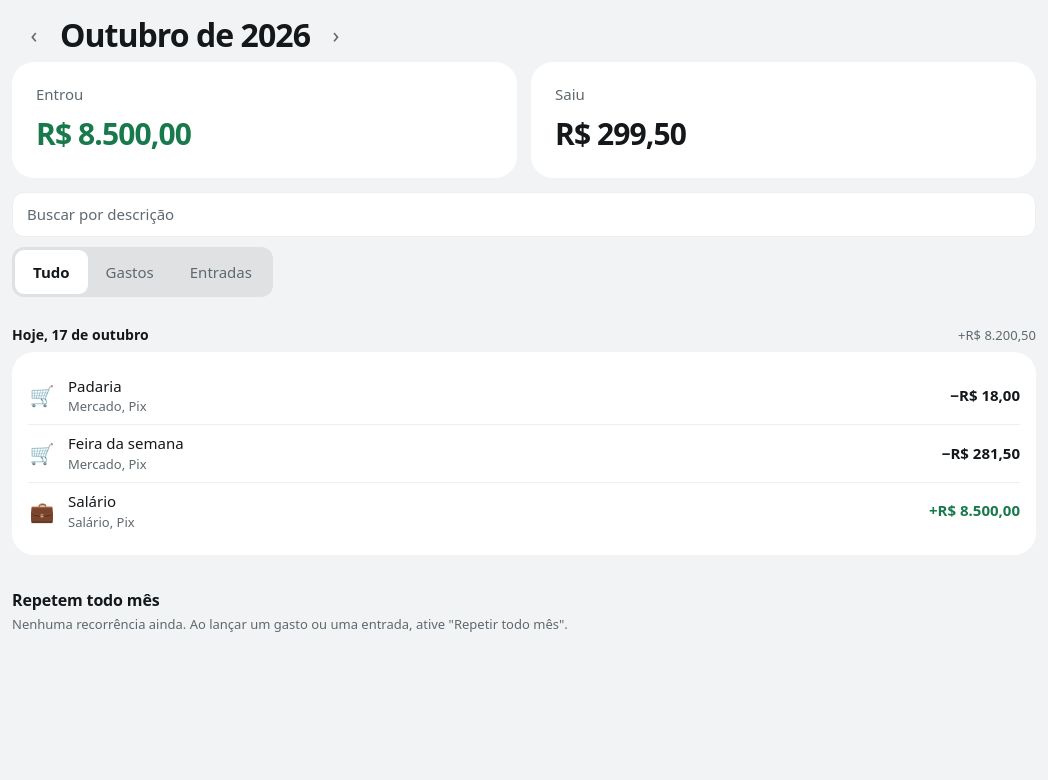
Test case: Transactions › combines filter and search; the totals stay those of the whole month
expect the text "Padaria" is shown: met, box [68,376,122,396]
Click the button "Gastos" at (130, 272), box [88,250,172,294]
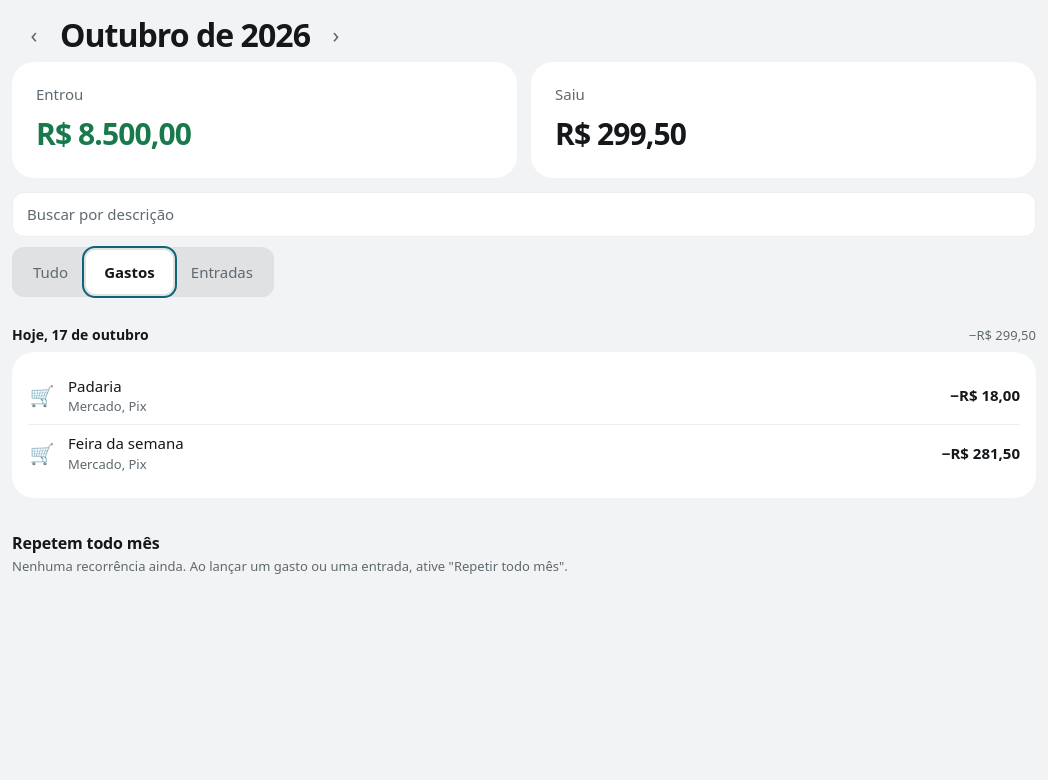
Type "sal" into the search field labelled "Buscar" at (524, 214), box [12,192,1036,237]
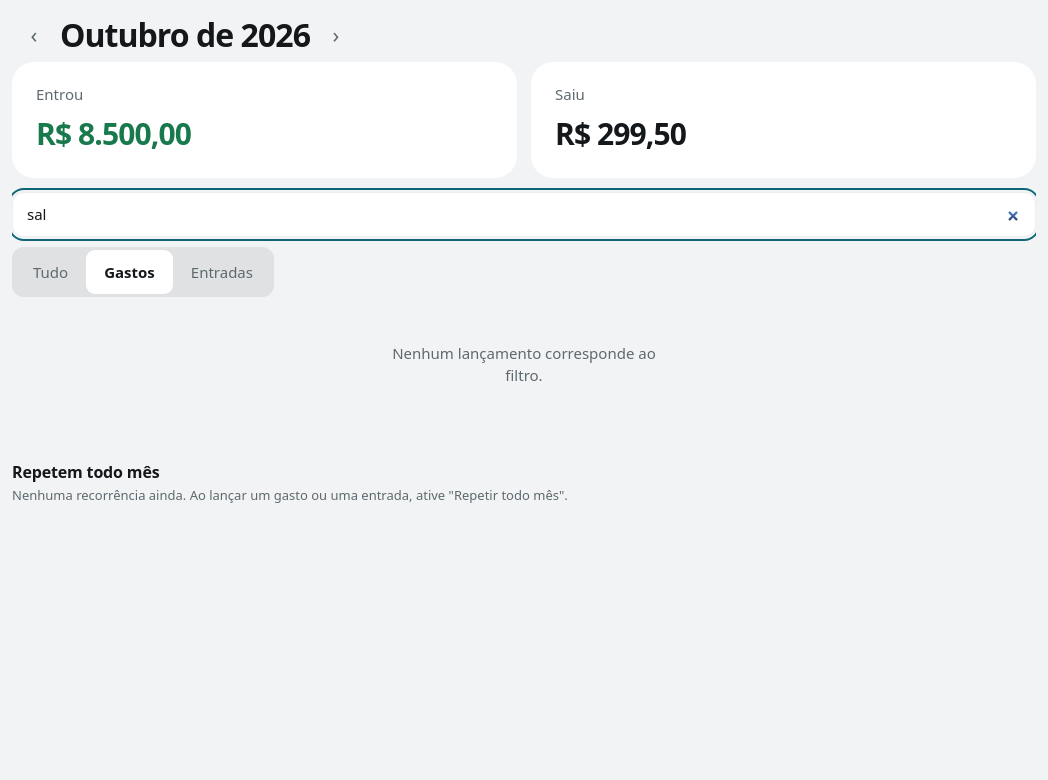
expect the text "Entrou R$ 8.500,00" is shown: met, box [12,62,517,178]
expect the text "Nenhum lançamento corresponde ao filtro." is shown: met, box [387,343,661,387]
